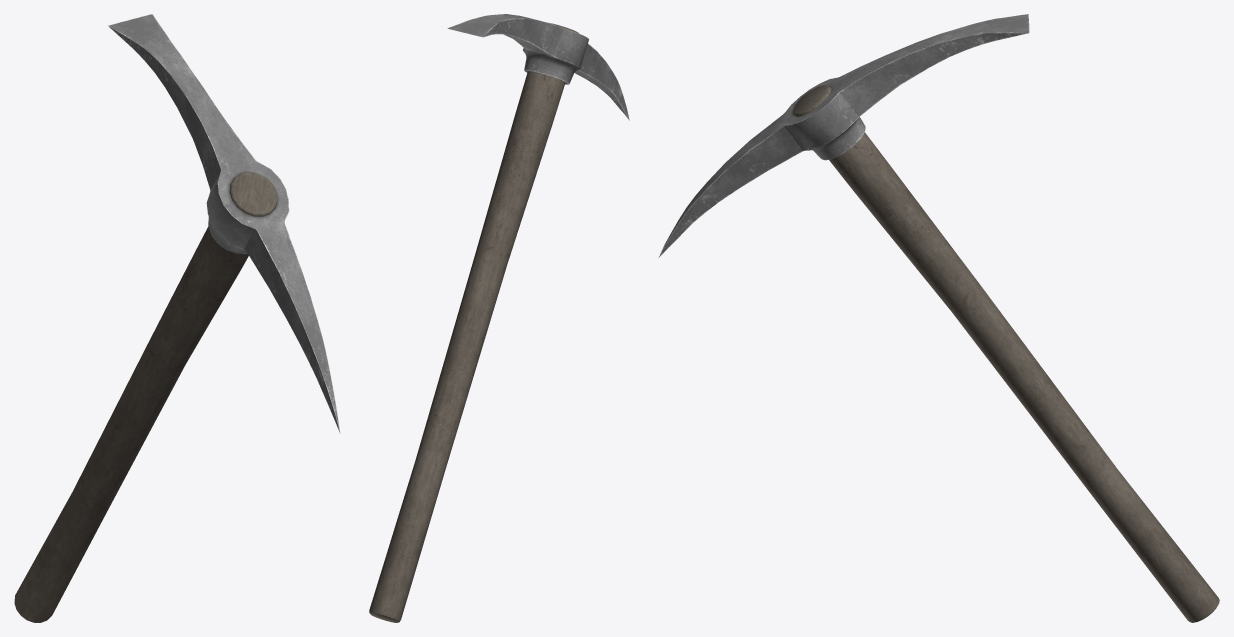
The model's file is Pickaxe.fbx.
3 renders of one model, left to right at view 1: azimuth 30°, elevation 25°; view 2: azimuth 150°, elevation 25°; view 3: azimuth 270°, elevation 25°, orthographic. The views are drawn at different scales.
Parts seen in each view (by area): view 1: PickaxeLP.001; view 2: PickaxeLP.001; view 3: PickaxeLP.001.
Part boxes in pixels (x1,y1,x2,y2): PickaxeLP.001: (14,14,340,622); PickaxeLP.001: (369,14,629,622); PickaxeLP.001: (658,14,1219,622).
Bounding box in the file's own units: 7 × 71 × 60.59.
